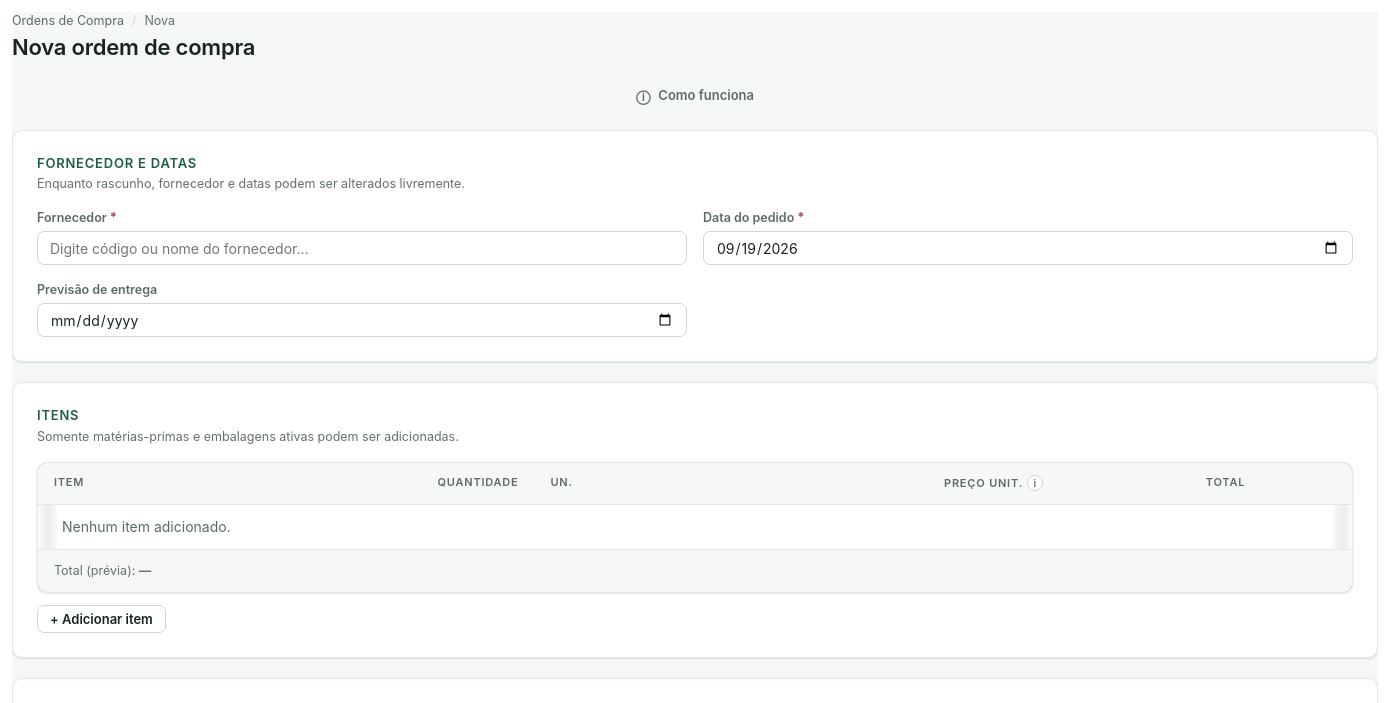
MASTER-DATA-EDIT-PERMISSIONS-01 — Ordem de Compra › COMMERCIAL: Novo fornecedor e Novo item de estoque seguem as listas do cadastro
Expected: the heading "Nova ordem de compra" is shown, [12, 34, 255, 62]
Type "cadastro que ainda nao existe" into the dropdown labelled "Fornecedor *" at (362, 248), box [37, 231, 687, 265]
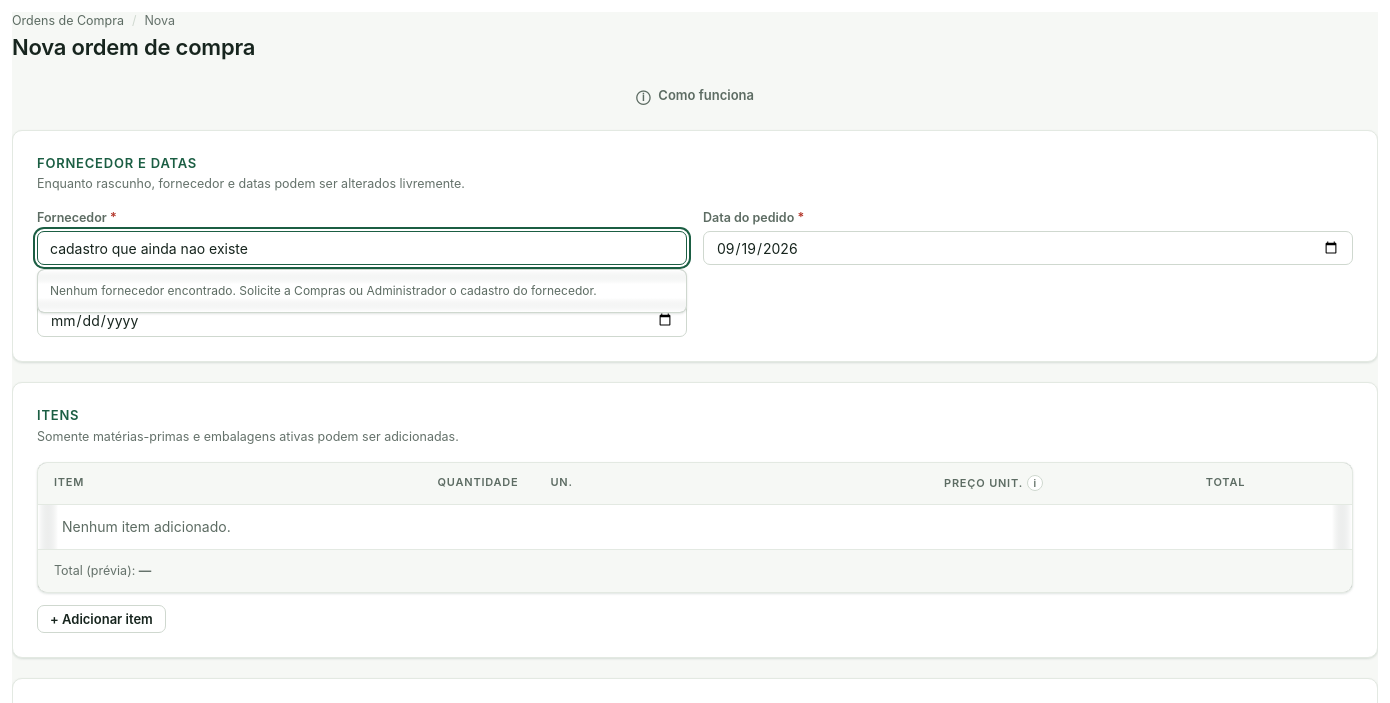
Now the list item "Nenhum fornecedor encontrado. Solicite a Compras ou Administrador o cadastro do fornecedor." is shown, box [50, 283, 597, 298]
Press Escape in the dropdown labelled "Fornecedor *", box [37, 231, 687, 265]
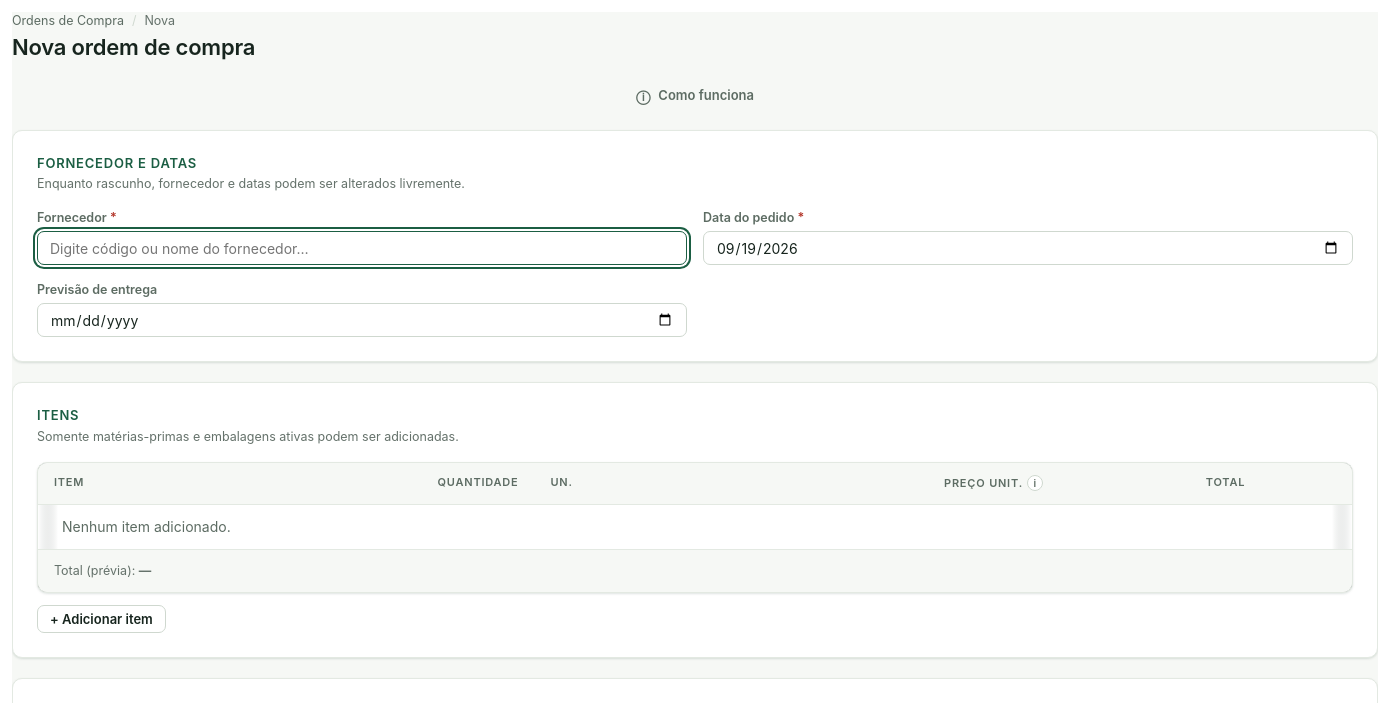
Click the button "+ Adicionar item" at (101, 619), box [37, 605, 166, 633]
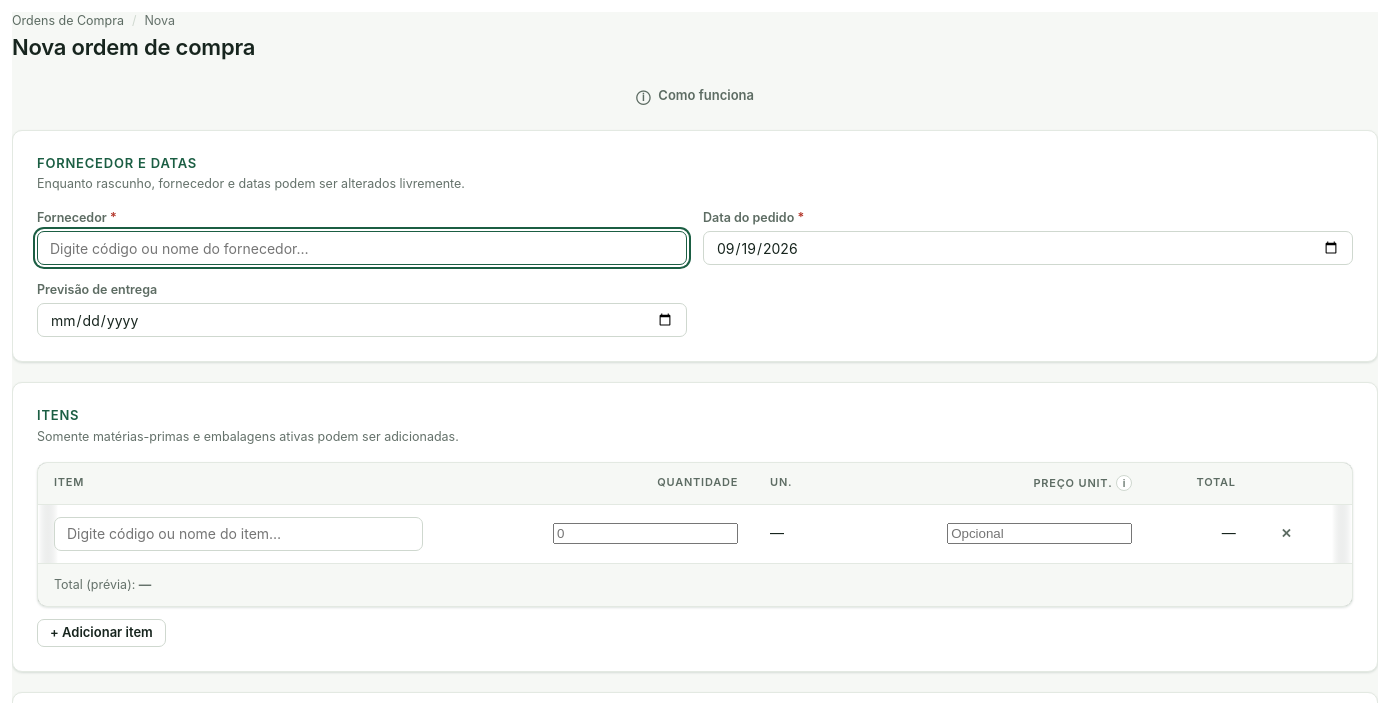
Type "cadastro que ainda nao existe" into the dropdown with placeholder "Digite código ou nome do item…" at (238, 534), box [54, 517, 423, 551]
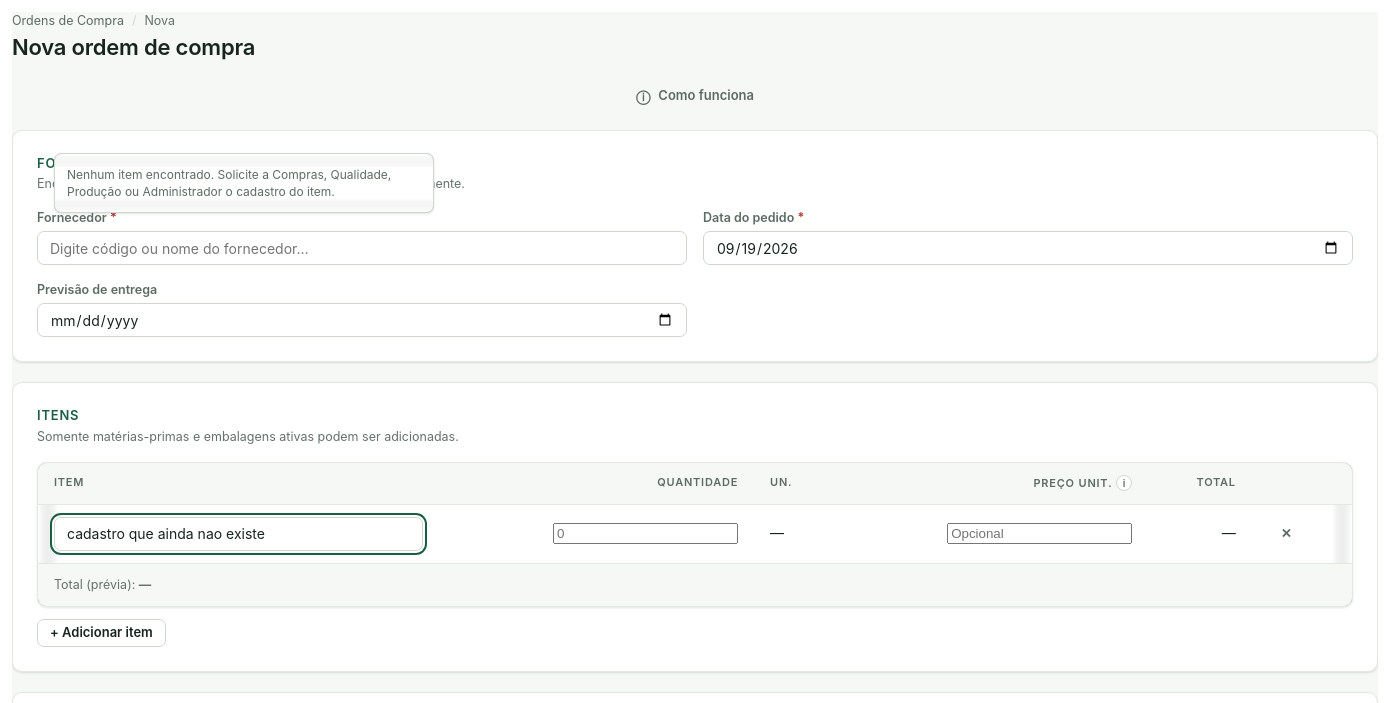
Now the list item "Nenhum item encontrado. Solicite a Compras, Qualidade, Produção ou Administrador o cadastro do item." is shown, box [67, 167, 391, 199]
